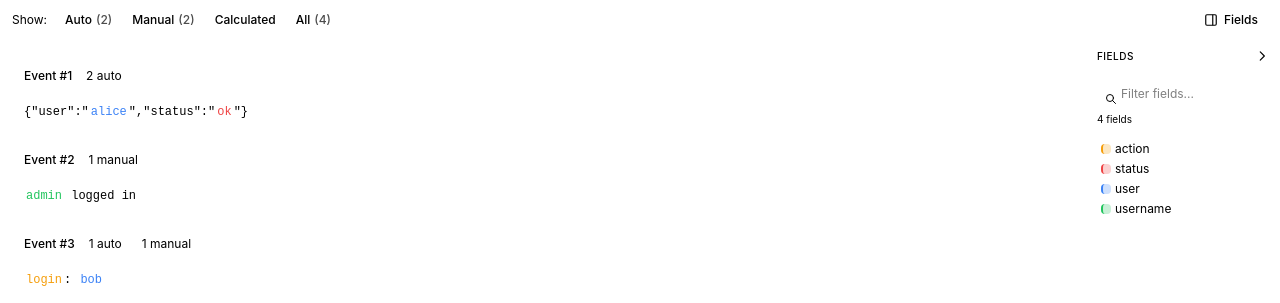
Test: HighlightedTab › renders "events match pinned" counter when a field is pinned via Fields sidebar
This screenshot has width=1280, height=303.
// Click the "username" field chip in the sidebar to pin it.
Click the text "username" at (1143, 209), box left=1115, top=201, right=1171, bottom=217
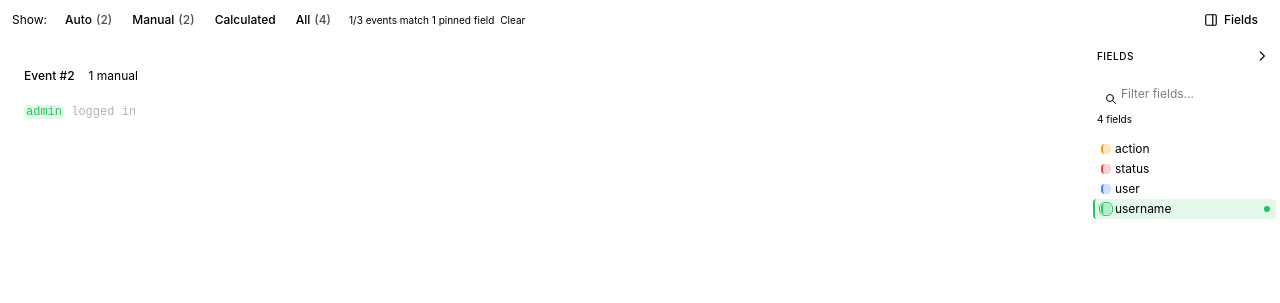
Result: the text "1/3 events match 1 pinned field Clear" is shown at left=349, top=12, right=525, bottom=28
